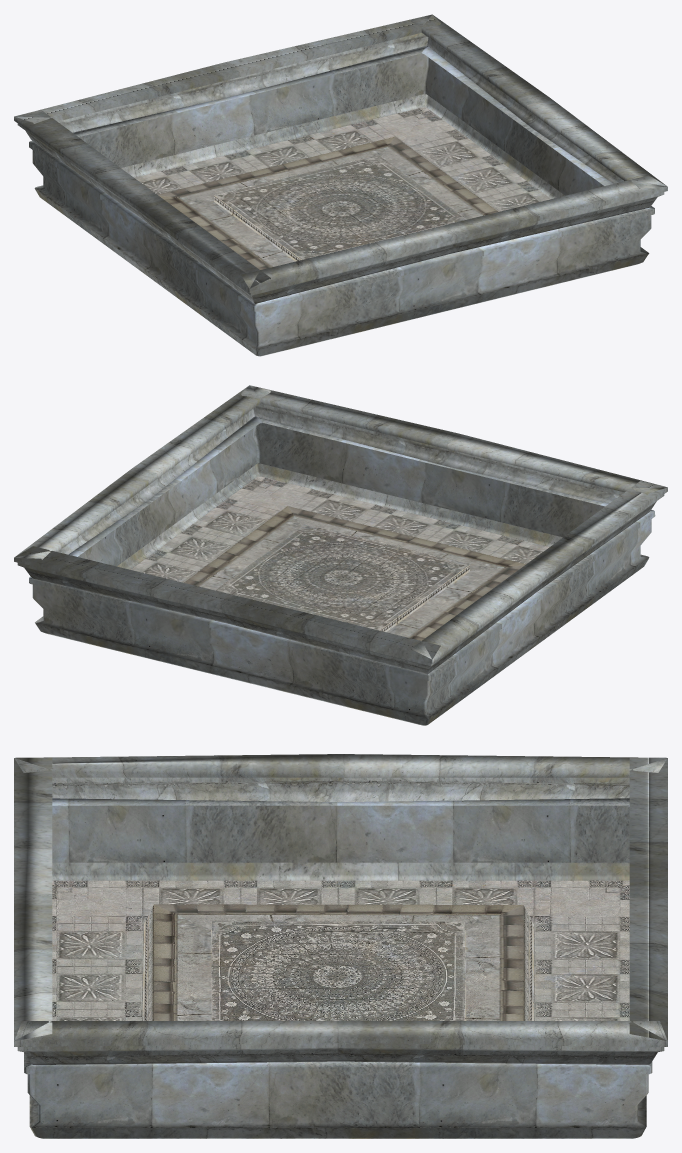
File: Roof.fbx
3 views of the same model, one above another, from view 1: azimuth 30°, elevation 25°; view 2: azimuth 150°, elevation 25°; view 3: azimuth 270°, elevation 25° (orthographic). The views are drawn at different scales.
Visible parts, largest first — view 1: LV_Nigraturis_City_Bridge01_SM_HSH.001; view 2: LV_Nigraturis_City_Bridge01_SM_HSH.001; view 3: LV_Nigraturis_City_Bridge01_SM_HSH.001.
Boxes of the visible parts, x1,y1,x2,y2 form: LV_Nigraturis_City_Bridge01_SM_HSH.001: (14,14,667,356); LV_Nigraturis_City_Bridge01_SM_HSH.001: (14,385,667,725); LV_Nigraturis_City_Bridge01_SM_HSH.001: (14,754,667,1138).
Size of the model in its own units: 4.45 by 0.8355 by 4.34.
3 materials, 3 textured.
